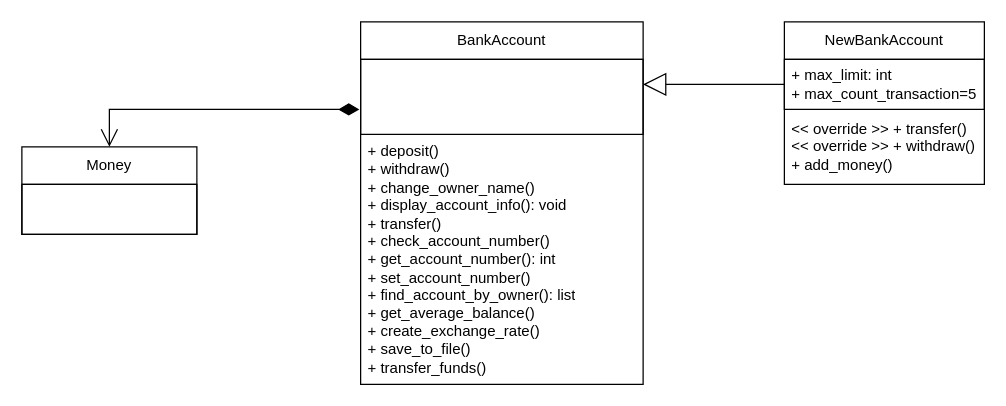
Image size: 1006x406. Some labels were removed from this diagram. The shapes that lost their labels are listed below. From the top down, each one's box as (x1, y1, x2, y2) in pixels, then its label:
(359, 58, 643, 134): - account_number: int + owner_name: str + balance: Money + currency: str
(21, 183, 197, 234): +amount: int +corrency: str
